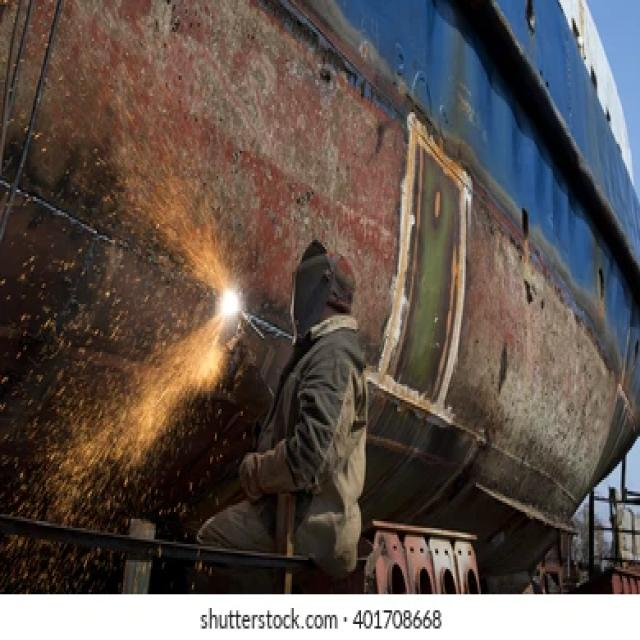welding: (221, 287, 242, 316)
